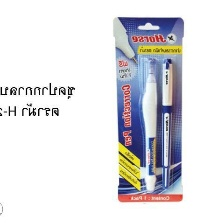book: (111, 14, 185, 204)
correction_fluid: (139, 55, 160, 193)
